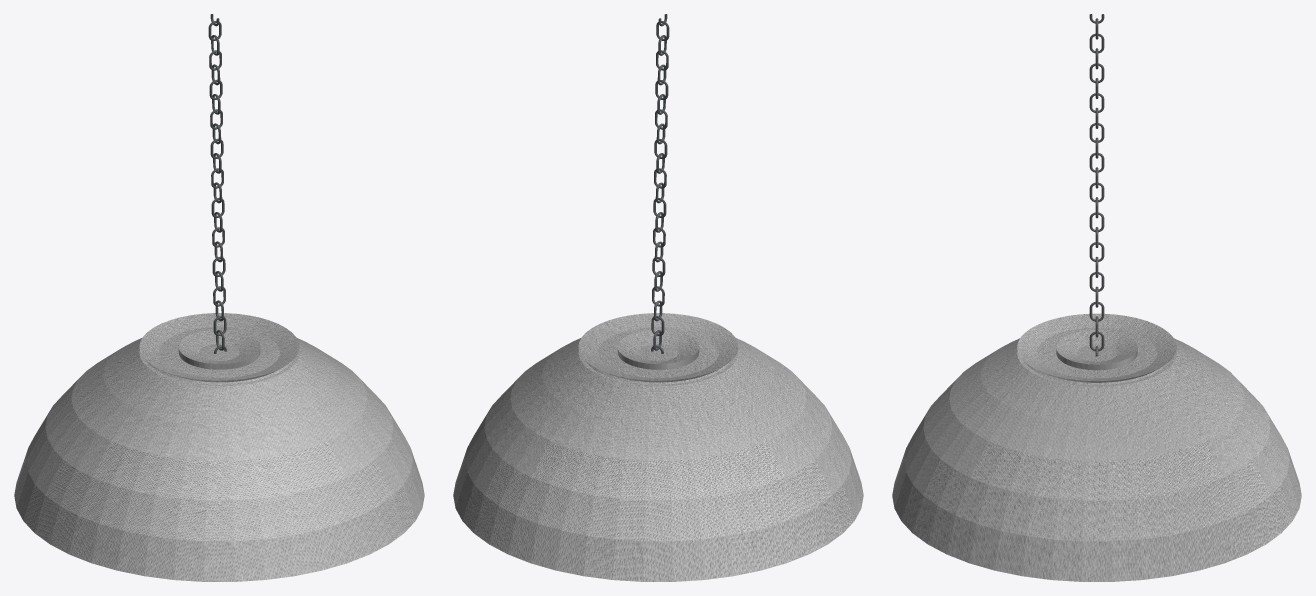
The model's file is CLight.fbx.
3 views of the same model, side by side, from view 1: azimuth 30°, elevation 25°; view 2: azimuth 150°, elevation 25°; view 3: azimuth 270°, elevation 25° (orthographic).
Parts seen in each view (by area): view 1: Sphere, Torus.001; view 2: Sphere, Torus.001; view 3: Sphere, Torus.001.
Part boxes in pixels (bbox=[...]): Sphere: bbox=[14, 313, 424, 581]; Torus.001: bbox=[208, 14, 226, 353]; Sphere: bbox=[453, 313, 863, 581]; Torus.001: bbox=[651, 14, 669, 353]; Sphere: bbox=[892, 313, 1301, 581]; Torus.001: bbox=[1089, 14, 1104, 356].
Bounding box in the file's own units: 271 × 351 × 272.
3 materials, 3 textured.
